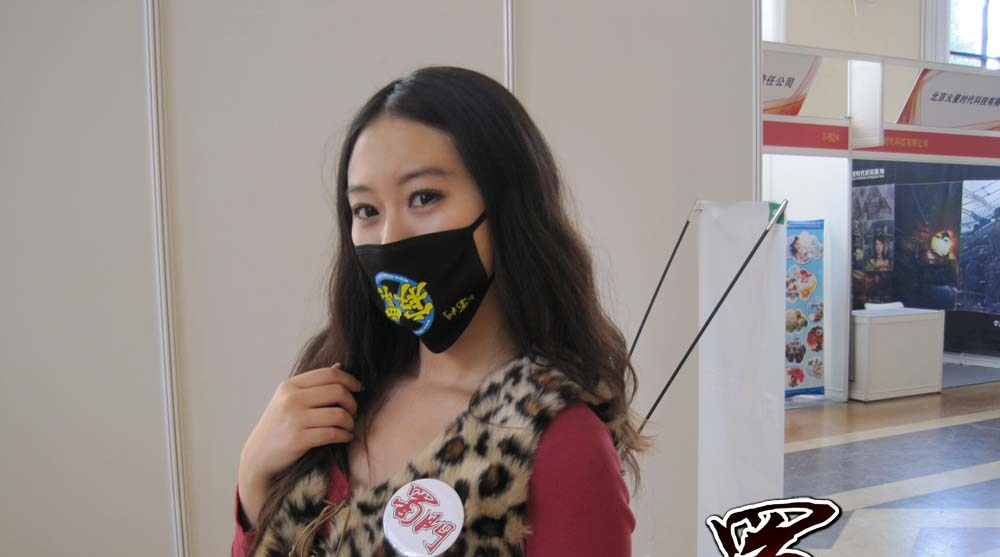face_mask: (350, 124, 492, 341)
